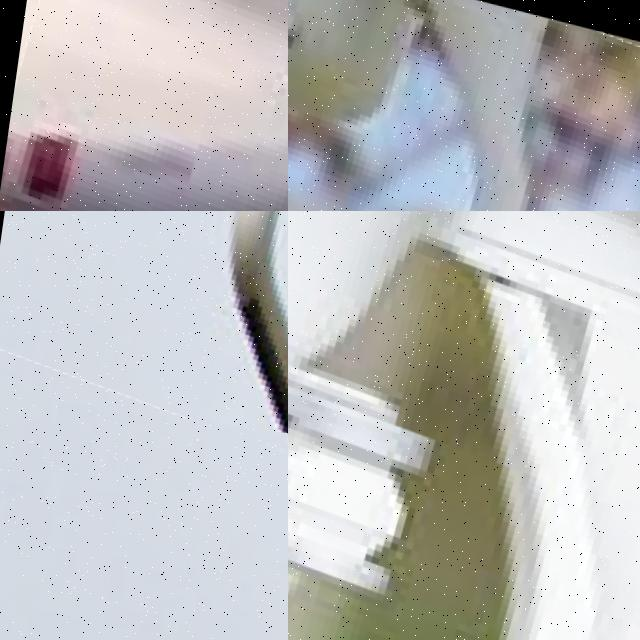drone: (288, 211, 640, 640), (0, 211, 288, 479), (288, 0, 640, 211), (0, 0, 288, 211)
